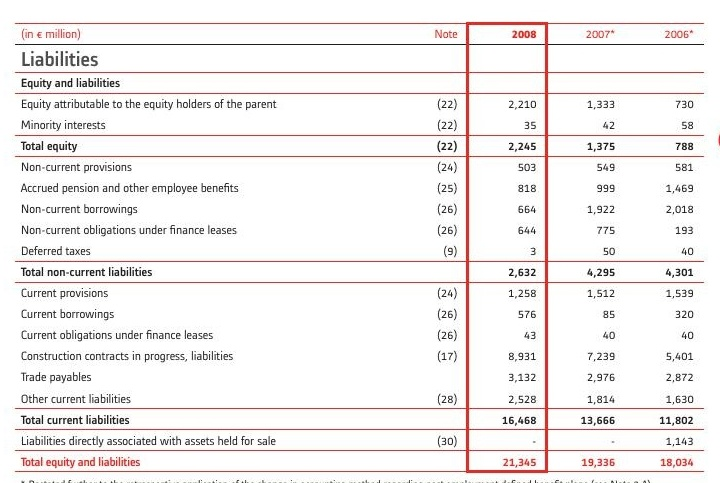table: (0, 0, 720, 483)
